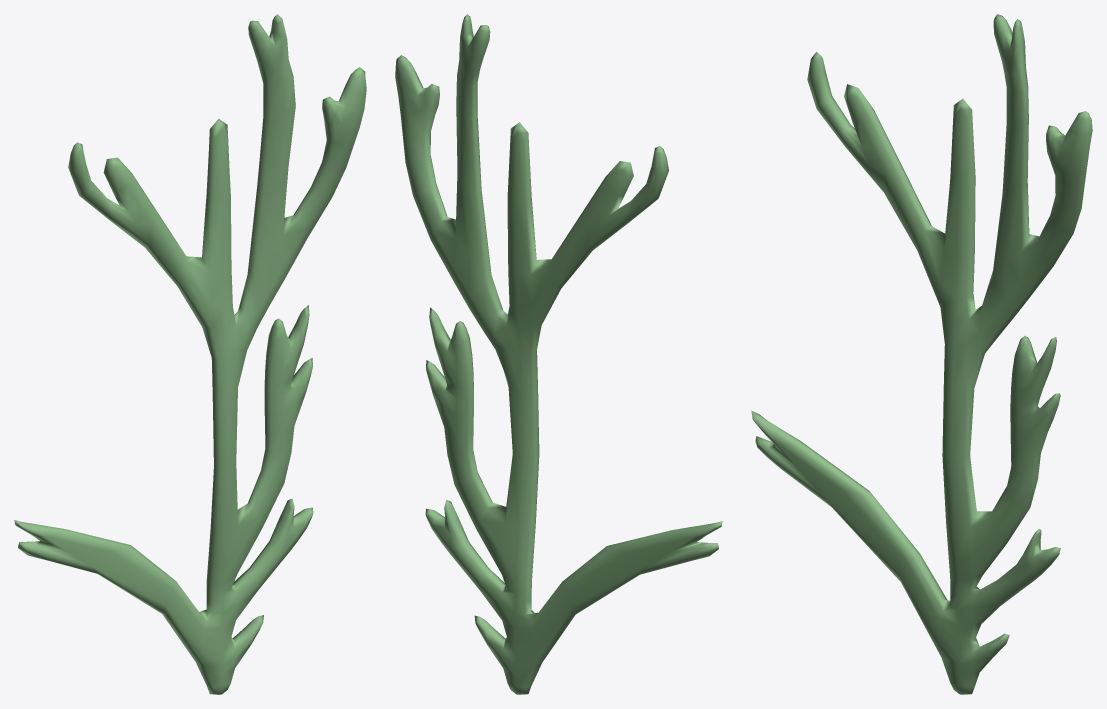
File: seafeed_02.fbx
3 renders of one model, left to right at view 1: azimuth 30°, elevation 25°; view 2: azimuth 150°, elevation 25°; view 3: azimuth 330°, elevation 25°, orthographic. The views are drawn at different scales.
Parts seen in each view (by area): view 1: pPlane5; view 2: pPlane5; view 3: pPlane5.
Part boxes in pixels (x1,y1,x2,y2): pPlane5: (14,14,366,694); pPlane5: (395,14,722,694); pPlane5: (751,14,1092,694).
Size of the model in its own units: 6.66 by 12.52 by 0.6984.
